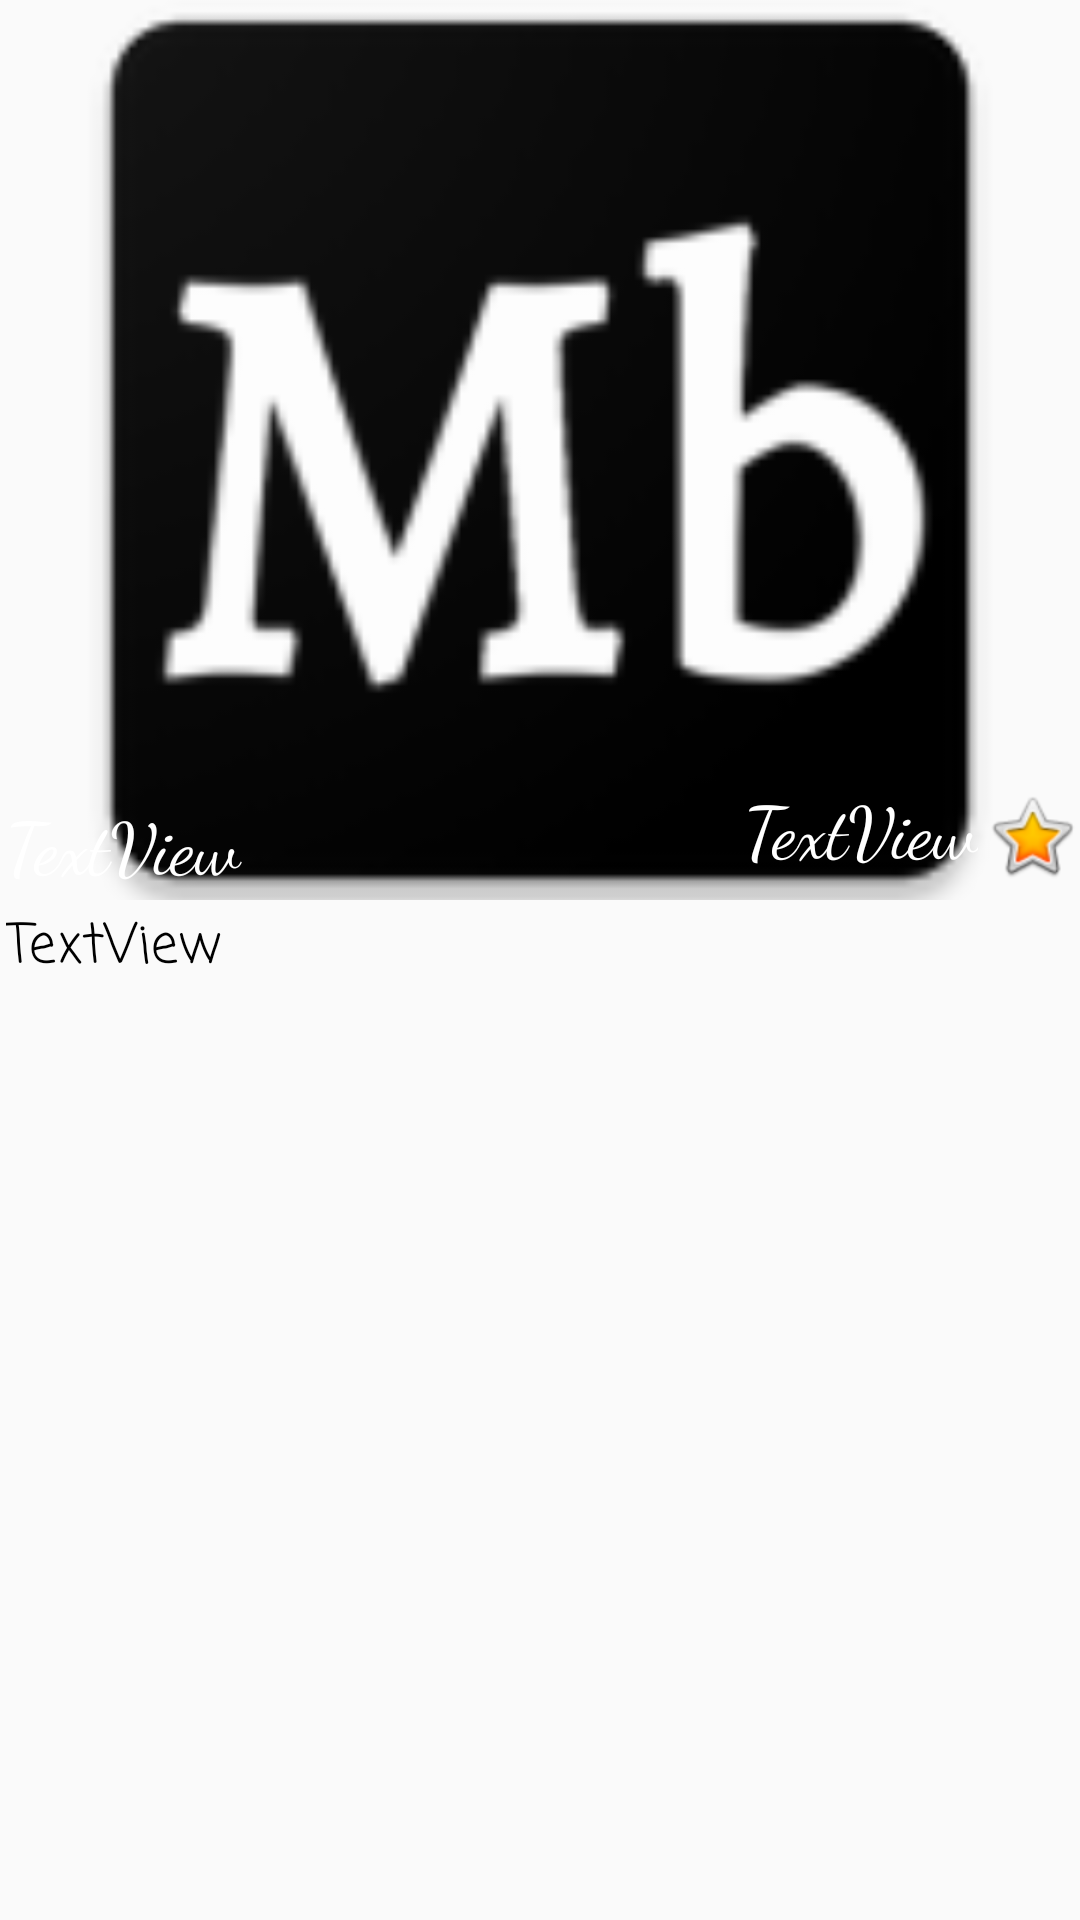

Named icons in this screenshot (1080*1920) and their bounding boxes, (x1, y1, x2, y2):
star on: (993, 798, 1073, 876)
